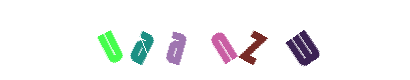A: (102, 0, 182, 80), (149, 0, 229, 80)
N: (164, 0, 244, 80)
U: (70, 0, 150, 80)
W: (245, 0, 325, 80)
Z: (171, 0, 251, 80)
